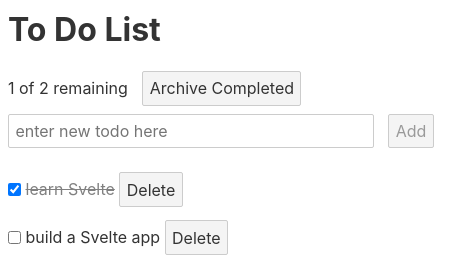
Test: TodoList › should archive completed
This screenshot has width=451, height=272.
Click the button "Archive Completed" at (222, 88), box [142,71,301,106]
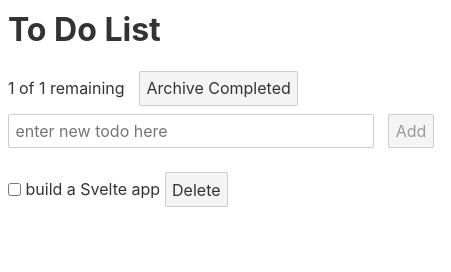
Check: the number of list items is 1, box [8,172,228,207]
